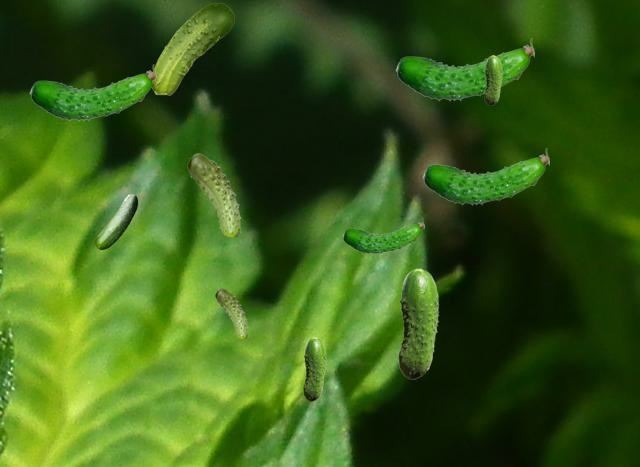cucumber: (395, 38, 533, 100), (152, 3, 233, 94), (422, 148, 548, 204), (29, 64, 155, 120), (398, 268, 438, 378), (187, 153, 240, 235), (342, 218, 423, 253), (95, 194, 136, 248), (215, 288, 247, 337), (303, 337, 325, 400), (484, 55, 501, 104)
